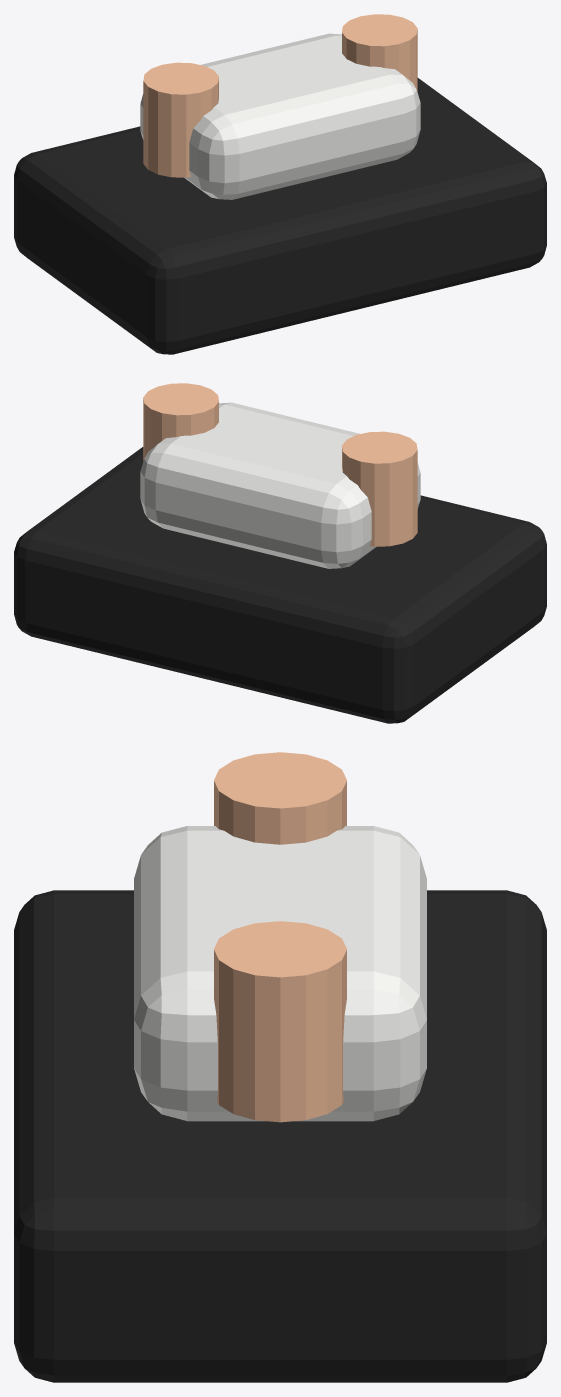
The model's file is generic-mrbf-150a.glb.
3 views of the same model, one above another, from view 1: azimuth 30°, elevation 25°; view 2: azimuth 150°, elevation 25°; view 3: azimuth 270°, elevation 25° (orthographic). The views are drawn at different scales.
Visible parts, largest first — view 1: base, fuse, stud-in, stud-out; view 2: base, fuse, stud-in, stud-out; view 3: base, fuse, stud-out, stud-in.
Part boxes in pixels (bbox=[...]): base: bbox=[14, 78, 546, 354]; fuse: bbox=[140, 33, 420, 199]; stud-in: bbox=[143, 62, 218, 177]; stud-out: bbox=[342, 14, 417, 91]; base: bbox=[14, 447, 546, 723]; fuse: bbox=[140, 402, 420, 568]; stud-in: bbox=[342, 431, 417, 546]; stud-out: bbox=[143, 383, 218, 460]; base: bbox=[14, 890, 546, 1382]; fuse: bbox=[134, 826, 426, 1121]; stud-out: bbox=[214, 921, 346, 1122]; stud-in: bbox=[214, 752, 346, 844].
Size of the model in its own units: 0.06 by 0.03 by 0.04.
